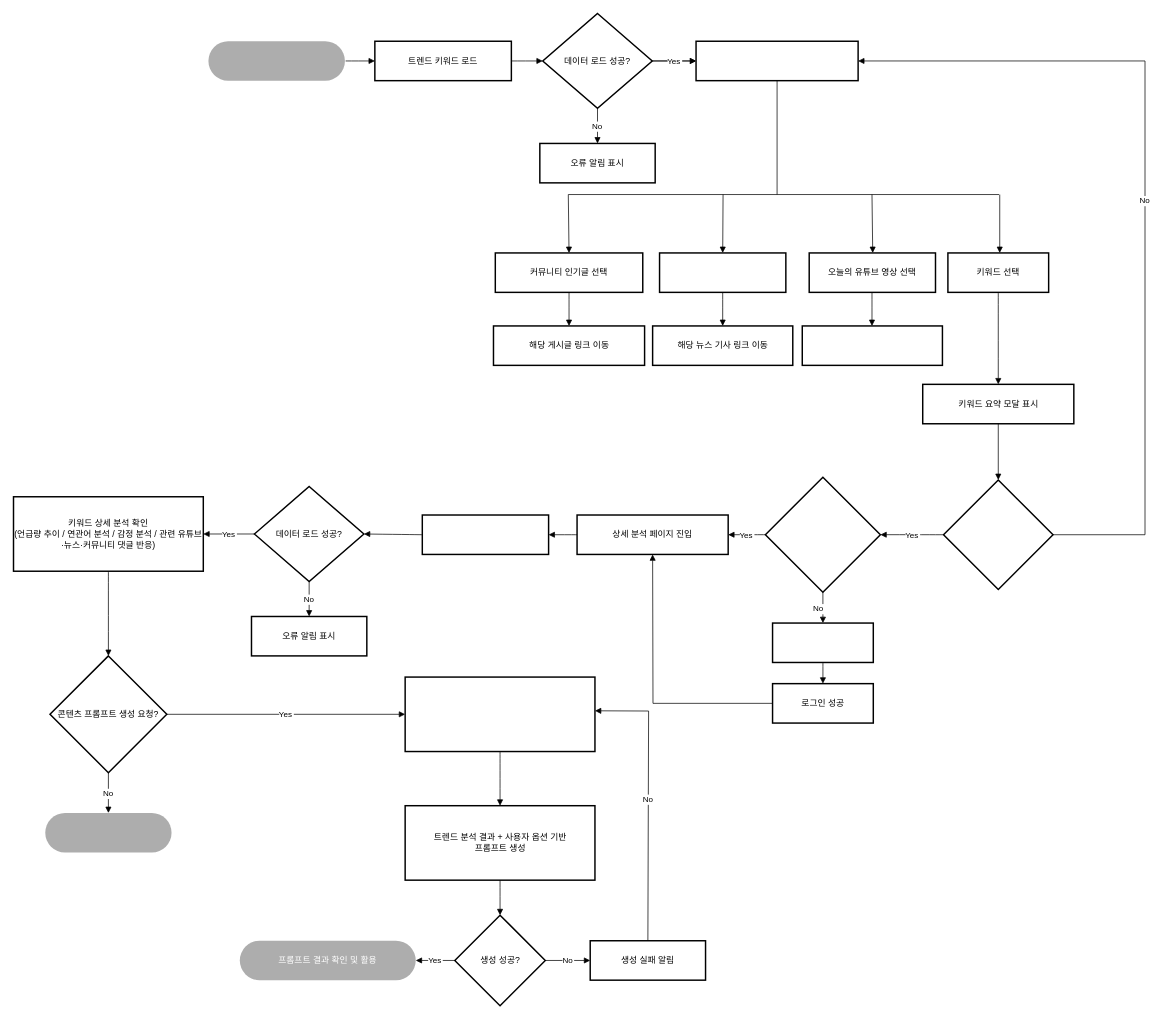
This 1164x1019 diagram has some shape labels left out. The shapes that lost their labels are listed below. From the top down, each one's centre as x and y in pixels, then its label:
At (276,60): "메인 대시보드 진입".
At (776,60): "트렌드 키워드 목록 표시 (통합 키워드/플랫폼별 키워드/뉴스 키워드)".
At (722,272): "오늘의 뉴스 선택".
At (872,345): "해당 영상 링크 이동".
At (485,534): "상세 데이터 로드".
At (822,534): "로그인 여부 확인".
At (997,534): "상세 분석 보기 선택?".
At (822,642): "로그인 요청".
At (499,714): "콘텐츠 생성 옵션 입력 콘텐츠 유형 / 업종 / 목적 / 타겟".
At (108,832): "서비스 이용 종료".
